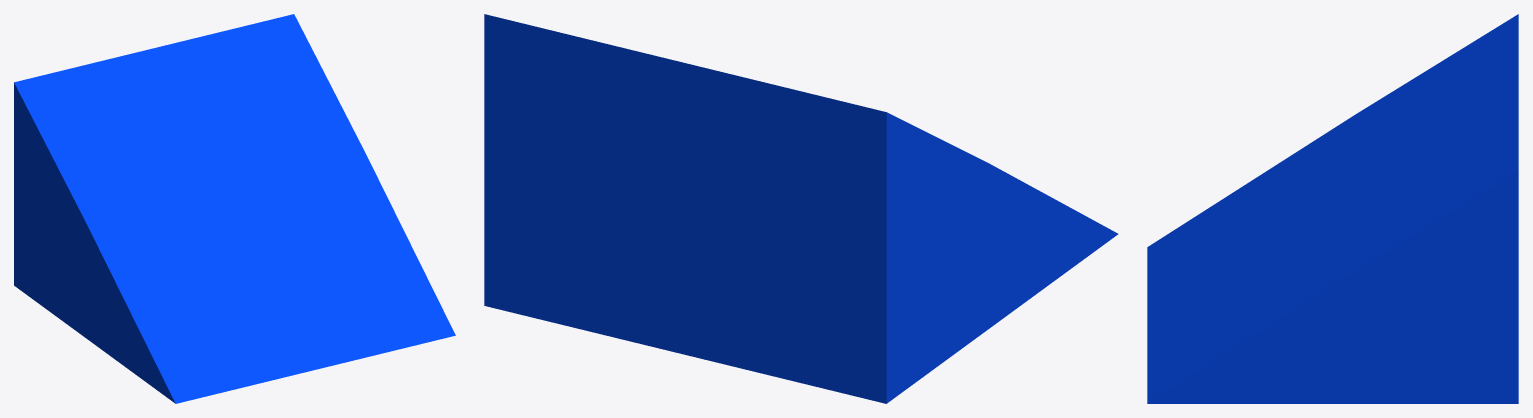
Rendered from Slope.fbx.
3 views of the same model, side by side, from view 1: azimuth 30°, elevation 25°; view 2: azimuth 150°, elevation 25°; view 3: azimuth 270°, elevation 25° (orthographic). The views are drawn at different scales.
Visible parts, largest first — view 1: Cube; view 2: Cube; view 3: Cube.
Boxes of the visible parts, x1,y1,x2,y2 form: Cube: [14, 14, 455, 403]; Cube: [484, 14, 1118, 403]; Cube: [1147, 14, 1518, 403].
Bounding box in the file's own units: 672 × 465 × 671.
